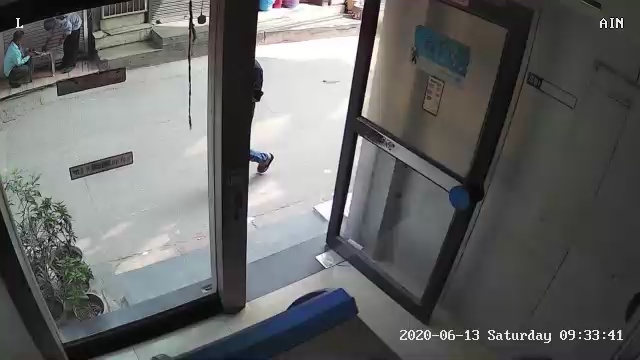open: (198, 4, 541, 343)
